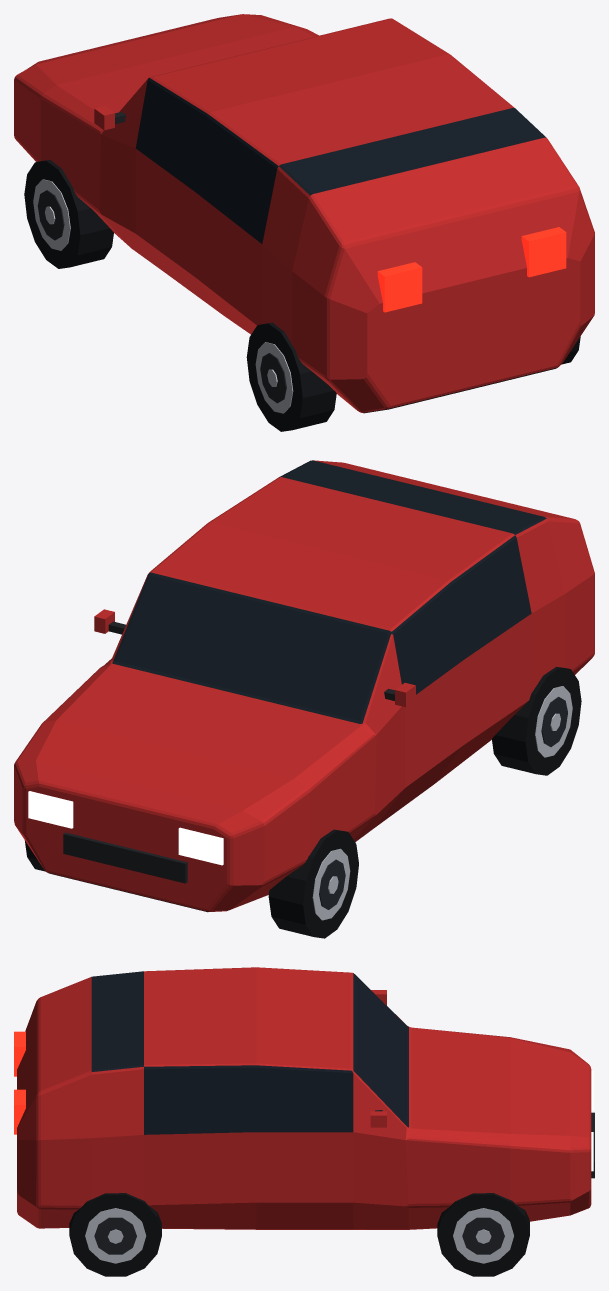
The model's file is traffic_hatch.glb.
3 views of the same model, one above another, from view 1: azimuth 30°, elevation 25°; view 2: azimuth 150°, elevation 25°; view 3: azimuth 270°, elevation 25° (orthographic). The views are drawn at different scales.
Visible parts, largest first — view 1: Body, Wheel_FL, Wheel_RL; view 2: Body, Wheel_FL, Wheel_RL; view 3: Body, Wheel_FR, Wheel_RR.
Part boxes in pixels (x1,y1,x2,y2): Body: (14,14,594,413); Wheel_FL: (24,160,113,268); Wheel_RL: (246,322,336,431); Body: (14,460,594,912); Wheel_FL: (268,829,358,938); Wheel_RL: (492,666,581,775); Body: (14,967,594,1229); Wheel_FR: (437,1193,529,1276); Wheel_RR: (69,1193,161,1276).
Bounding box in the file's own units: 1.99 × 1.51 × 3.88.
